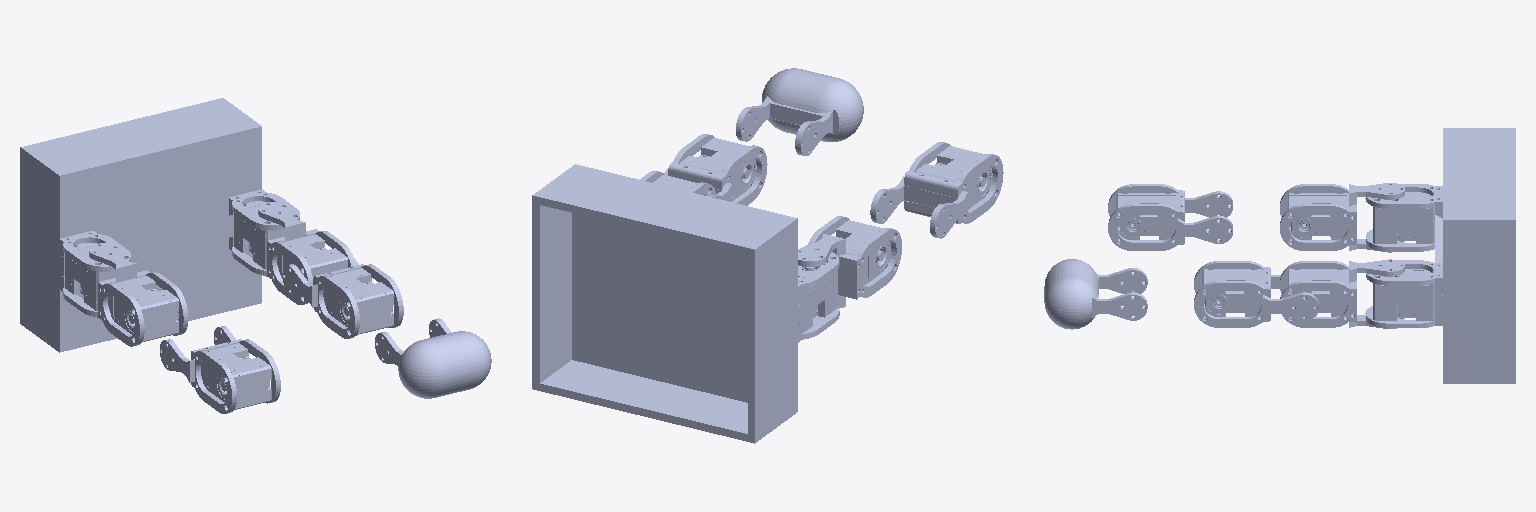
URDF robot description (WalkBot_4DOF):
<?xml version="1.0" encoding="utf-8"?>
<!-- This URDF was automatically created by SolidWorks to URDF Exporter! Originally created by [author] ([email redacted]) 
     Commit Version: 1.6.0-4-g7f85cfe  Build Version: 1.6.7995.38578
     For more information, please see http://wiki.ros.org/sw_urdf_exporter -->
<robot
  name="WalkBot_4DOF">
  <link
    name="head">
    <inertial>
      <origin
        xyz="-2.00651703948244E-06 -0.0144570940704623 3.78706484774485E-05"
        rpy="0 0 0" />
      <mass
        value="0.212330885978784" />
      <inertia
        ixx="0.000206705301014731"
        ixy="2.75715918169902E-09"
        ixz="1.68095672507453E-10"
        iyy="0.000442728884207743"
        iyz="5.33273059302626E-09"
        izz="0.000284583601879323" />
    </inertial>
    <visual>
      <origin
        xyz="0 0 0"
        rpy="0 0 0" />
      <geometry>
        <mesh
          filename="../meshes/head.STL" />
      </geometry>
      <material
        name="">
        <color
          rgba="0.792156862745098 0.819607843137255 0.933333333333333 1" />
      </material>
    </visual>
    <collision>
      <origin
        xyz="0 0 0"
        rpy="0 0 0" />
      <geometry>
        <mesh
          filename="../meshes/head.STL" />
      </geometry>
    </collision>
  </link>
  <link
    name="left_s1">
    <inertial>
      <origin
        xyz="-0.000188155548068183 -0.0346057033680312 -0.00050996912723855"
        rpy="0 0 0" />
      <mass
        value="0.0213682467147692" />
      <inertia
        ixx="3.2595824856522E-06"
        ixy="-2.66636529656215E-09"
        ixz="-8.41577076309615E-11"
        iyy="1.04298724915849E-06"
        iyz="1.37857959162102E-09"
        izz="2.70162820946051E-06" />
    </inertial>
    <visual>
      <origin
        xyz="0 0 0"
        rpy="0 0 0" />
      <geometry>
        <mesh
          filename="../meshes/left_s1.STL" />
      </geometry>
      <material
        name="">
        <color
          rgba="0.792156862745098 0.819607843137255 0.933333333333333 1" />
      </material>
    </visual>
    <collision>
      <origin
        xyz="0 0 0"
        rpy="0 0 0" />
      <geometry>
        <mesh
          filename="../meshes/left_s1.STL" />
      </geometry>
    </collision>
  </link>
  <joint
    name="abductor_l"
    type="revolute">
    <origin
      xyz="0.0499999999999994 -0.0486271117592208 0.00050000000000167"
      rpy="0 0 0" />
    <parent
      link="head" />
    <child
      link="left_s1" />
    <axis
      xyz="0 0 -1" />
    <limit
      lower="-1.57"
      upper="1.57"
      effort="0.22"
      velocity="38" />
  </joint>
  <link
    name="left_s2">
    <inertial>
      <origin
        xyz="0.00030828776597587 -0.0348710145847983 -1.01575726774525E-05"
        rpy="0 0 0" />
      <mass
        value="0.0209718184775166" />
      <inertia
        ixx="3.14944361251738E-06"
        ixy="-2.66636529656145E-09"
        ixz="-8.28909281599916E-11"
        iyy="1.08188083399424E-06"
        iyz="1.37857959162188E-09"
        izz="2.6855511067329E-06" />
    </inertial>
    <visual>
      <origin
        xyz="0 0 0"
        rpy="0 0 0" />
      <geometry>
        <mesh
          filename="../meshes/left_s2.STL" />
      </geometry>
      <material
        name="">
        <color
          rgba="0.792156862745098 0.819607843137255 0.933333333333333 1" />
      </material>
    </visual>
    <collision>
      <origin
        xyz="0 0 0"
        rpy="0 0 0" />
      <geometry>
        <mesh
          filename="../meshes/left_s2.STL" />
      </geometry>
    </collision>
  </link>
  <joint
    name="hip_l"
    type="revolute">
    <origin
      xyz="-0.000500000000000354 -0.0473161341528267 -0.000500000000000557"
      rpy="0 0 0" />
    <parent
      link="left_s1" />
    <child
      link="left_s2" />
    <axis
      xyz="1 0 0" />
    <limit
      lower="-1.57"
      upper="1.57"
      effort="0.22"
      velocity="38" />
  </joint>
  <link
    name="left_s3">
    <inertial>
      <origin
        xyz="0.00030828776597587 -0.0348710145847983 -1.01575726774357E-05"
        rpy="0 0 0" />
      <mass
        value="0.0209718184775166" />
      <inertia
        ixx="3.14944361251738E-06"
        ixy="-2.66636529656099E-09"
        ixz="-8.28909281600453E-11"
        iyy="1.08188083399425E-06"
        iyz="1.37857959162267E-09"
        izz="2.6855511067329E-06" />
    </inertial>
    <visual>
      <origin
        xyz="0 0 0"
        rpy="0 0 0" />
      <geometry>
        <mesh
          filename="../meshes/left_s3.STL" />
      </geometry>
      <material
        name="">
        <color
          rgba="0.792156862745098 0.819607843137255 0.933333333333333 1" />
      </material>
    </visual>
    <collision>
      <origin
        xyz="0 0 0"
        rpy="0 0 0" />
      <geometry>
        <mesh
          filename="../meshes/left_s3.STL" />
      </geometry>
    </collision>
  </link>
  <joint
    name="knee_l"
    type="revolute">
    <origin
      xyz="0 -0.0473161341528267 0"
      rpy="0 0 0" />
    <parent
      link="left_s2" />
    <child
      link="left_s3" />
    <axis
      xyz="1 0 0" />
    <limit
      lower="-1.57"
      upper="1.57"
      effort="0.22"
      velocity="38" />
  </joint>
  <link
    name="left_s4">
    <inertial>
      <origin
        xyz="0.000499999999999785 -0.0320629887870768 -3.31160812445386E-16"
        rpy="0 0 0" />
      <mass
        value="0.0309227624152866" />
      <inertia
        ixx="3.11278543548184E-06"
        ixy="2.06133408648214E-20"
        ixz="4.95387900229234E-14"
        iyy="5.79440254144382E-06"
        iyz="-1.07695203690529E-21"
        izz="5.81487246004715E-06" />
    </inertial>
    <visual>
      <origin
        xyz="0 0 0"
        rpy="0 0 0" />
      <geometry>
        <mesh
          filename="../meshes/left_s4.STL" />
      </geometry>
      <material
        name="">
        <color
          rgba="0.792156862745098 0.819607843137255 0.933333333333333 1" />
      </material>
    </visual>
    <collision>
      <origin
        xyz="0 0 0"
        rpy="0 0 0" />
      <geometry>
        <mesh
          filename="../meshes/left_s4.STL" />
      </geometry>
    </collision>
  </link>
  <joint
    name="ankle_l"
    type="revolute">
    <origin
      xyz="0 -0.0473161341528267 0"
      rpy="0 0 0" />
    <parent
      link="left_s3" />
    <child
      link="left_s4" />
    <axis
      xyz="1 0 0" />
    <limit
      lower="-1.57"
      upper="1.57"
      effort="0.22"
      velocity="38" />
  </joint>
  <link
    name="right_s1">
    <inertial>
      <origin
        xyz="-0.00018815554806819 -0.0346057033680312 -0.000509969127238547"
        rpy="0 0 0" />
      <mass
        value="0.0213682467147692" />
      <inertia
        ixx="3.25958248565221E-06"
        ixy="-2.66636529656229E-09"
        ixz="-8.41577076309623E-11"
        iyy="1.04298724915849E-06"
        iyz="1.37857959162092E-09"
        izz="2.70162820946051E-06" />
    </inertial>
    <visual>
      <origin
        xyz="0 0 0"
        rpy="0 0 0" />
      <geometry>
        <mesh
          filename="../meshes/right_s1.STL" />
      </geometry>
      <material
        name="">
        <color
          rgba="0.792156862745098 0.819607843137255 0.933333333333333 1" />
      </material>
    </visual>
    <collision>
      <origin
        xyz="0 0 0"
        rpy="0 0 0" />
      <geometry>
        <mesh
          filename="../meshes/right_s1.STL" />
      </geometry>
    </collision>
  </link>
  <joint
    name="abductor_r"
    type="revolute">
    <origin
      xyz="-0.05 -0.048627 0.0005"
      rpy="0 0 0" />
    <parent
      link="head" />
    <child
      link="right_s1" />
    <axis
      xyz="0 0 -1" />
    <limit
      lower="-1.57"
      upper="1.57"
      effort="0.22"
      velocity="38" />
  </joint>
  <link
    name="right_s2">
    <inertial>
      <origin
        xyz="0.000308287765975877 -0.0348710145847983 -1.01575726774519E-05"
        rpy="0 0 0" />
      <mass
        value="0.0209718184775166" />
      <inertia
        ixx="3.14944361251738E-06"
        ixy="-2.66636529656087E-09"
        ixz="-8.289092816008E-11"
        iyy="1.08188083399424E-06"
        iyz="1.37857959162173E-09"
        izz="2.6855511067329E-06" />
    </inertial>
    <visual>
      <origin
        xyz="0 0 0"
        rpy="0 0 0" />
      <geometry>
        <mesh
          filename="../meshes/right_s2.STL" />
      </geometry>
      <material
        name="">
        <color
          rgba="0.792156862745098 0.819607843137255 0.933333333333333 1" />
      </material>
    </visual>
    <collision>
      <origin
        xyz="0 0 0"
        rpy="0 0 0" />
      <geometry>
        <mesh
          filename="../meshes/right_s2.STL" />
      </geometry>
    </collision>
  </link>
  <joint
    name="hip_r"
    type="revolute">
    <origin
      xyz="-0.0005 -0.047316 -0.0005"
      rpy="0 0 0" />
    <parent
      link="right_s1" />
    <child
      link="right_s2" />
    <axis
      xyz="1 0 0" />
    <limit
      lower="-1.57"
      upper="1.57"
      effort="0.22"
      velocity="38" />
  </joint>
  <link
    name="right_s3">
    <inertial>
      <origin
        xyz="0.00030828776597587 -0.0348710145847984 -1.01575726774345E-05"
        rpy="0 0 0" />
      <mass
        value="0.0209718184775166" />
      <inertia
        ixx="3.14944361251738E-06"
        ixy="-2.66636529656175E-09"
        ixz="-8.28909281600542E-11"
        iyy="1.08188083399425E-06"
        iyz="1.37857959162258E-09"
        izz="2.6855511067329E-06" />
    </inertial>
    <visual>
      <origin
        xyz="0 0 0"
        rpy="0 0 0" />
      <geometry>
        <mesh
          filename="../meshes/right_s3.STL" />
      </geometry>
      <material
        name="">
        <color
          rgba="0.792156862745098 0.819607843137255 0.933333333333333 1" />
      </material>
    </visual>
    <collision>
      <origin
        xyz="0 0 0"
        rpy="0 0 0" />
      <geometry>
        <mesh
          filename="../meshes/right_s3.STL" />
      </geometry>
    </collision>
  </link>
  <joint
    name="knee_r"
    type="revolute">
    <origin
      xyz="0 -0.047316 0"
      rpy="0 0 0" />
    <parent
      link="right_s2" />
    <child
      link="right_s3" />
    <axis
      xyz="1 0 0" />
    <limit
      lower="-1.57"
      upper="1.57"
      effort="0.22"
      velocity="38" />
  </joint>
  <link
    name="right_s4">
    <inertial>
      <origin
        xyz="0.000499999999999799 -0.0320629887870767 -3.32913530455675E-16"
        rpy="0 0 0" />
      <mass
        value="0.0309227624152867" />
      <inertia
        ixx="3.11278543548184E-06"
        ixy="2.15464005957813E-20"
        ixz="4.95387907657313E-14"
        iyy="5.79440254144383E-06"
        iyz="-8.90783942986101E-23"
        izz="5.81487246004715E-06" />
    </inertial>
    <visual>
      <origin
        xyz="0 0 0"
        rpy="0 0 0" />
      <geometry>
        <mesh
          filename="../meshes/right_s4.STL" />
      </geometry>
      <material
        name="">
        <color
          rgba="0.792156862745098 0.819607843137255 0.933333333333333 1" />
      </material>
    </visual>
    <collision>
      <origin
        xyz="0 0 0"
        rpy="0 0 0" />
      <geometry>
        <mesh
          filename="../meshes/right_s4.STL" />
      </geometry>
    </collision>
  </link>
  <joint
    name="ankle_r"
    type="revolute">
    <origin
      xyz="0 -0.047316 0"
      rpy="0 0 0" />
    <parent
      link="right_s3" />
    <child
      link="right_s4" />
    <axis
      xyz="1 0 0" />
    <limit
      lower="-1.57"
      upper="1.57"
      effort="0.22"
      velocity="38" />
  </joint>
</robot>

--- Facts derived from the render (not from the file) ---
The picture shows the robot from 3 angles, left to right: view 1: azimuth 30°, elevation 25°; view 2: azimuth 150°, elevation 25°; view 3: azimuth 270°, elevation 25°; orthographic projection.
Model WalkBot_4DOF with 9 links and 8 joints (8 revolute), rooted at head, posed every joint at zero.
Links seen in each view (by area): view 1: head, right_s3, right_s1, left_s2, left_s4, left_s1; view 2: head, right_s3, left_s4, right_s1, left_s2, left_s1; view 3: head, right_s3, left_s2, right_s1, left_s4, left_s1.
Link boxes in pixels (x1,y1,x2,y2): head: (20,98,299,352); right_s3: (160,326,280,413); right_s1: (89,243,188,346); left_s2: (282,258,403,338); left_s4: (375,318,491,398); left_s1: (258,202,355,304); head: (532,164,839,443); right_s3: (870,142,1003,238); left_s4: (736,68,863,155); right_s1: (798,216,901,322); left_s2: (664,134,767,205); left_s1: (640,171,715,195); head: (1365,128,1515,383); right_s3: (1108,184,1232,250); left_s2: (1194,261,1318,327); right_s1: (1280,183,1404,252); left_s4: (1044,259,1147,329); left_s1: (1280,259,1404,328).
Bounding box of the posed robot: 0.1427 × 0.2597 × 0.1 m (x, y, z).
Meshes: 9 distinct files referenced, 6 mesh visuals loaded (6 binary STL); not drawn: 3 (reference not matched to a file when rendering).
